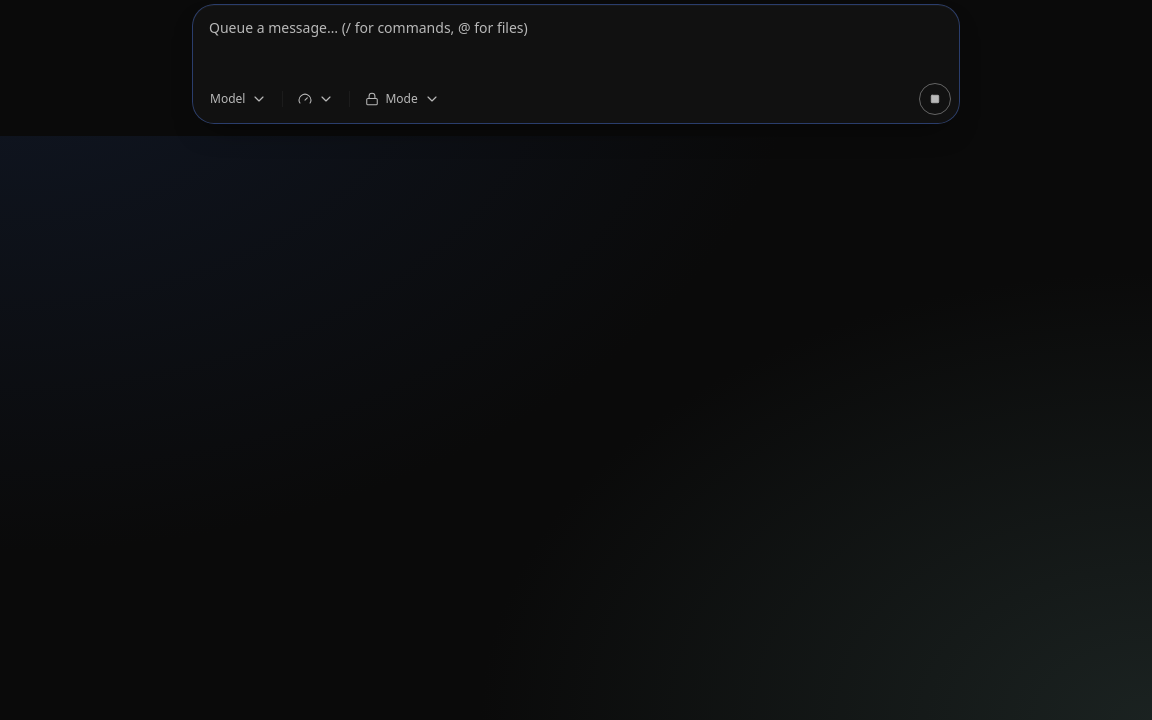
Test: Composer hint lifetime › keeps a replacement hint for its full duration, then expires it once
Type "first direction" into the dropdown labelled "message" at coordinates (576, 44), box 193,5 -> 959,83
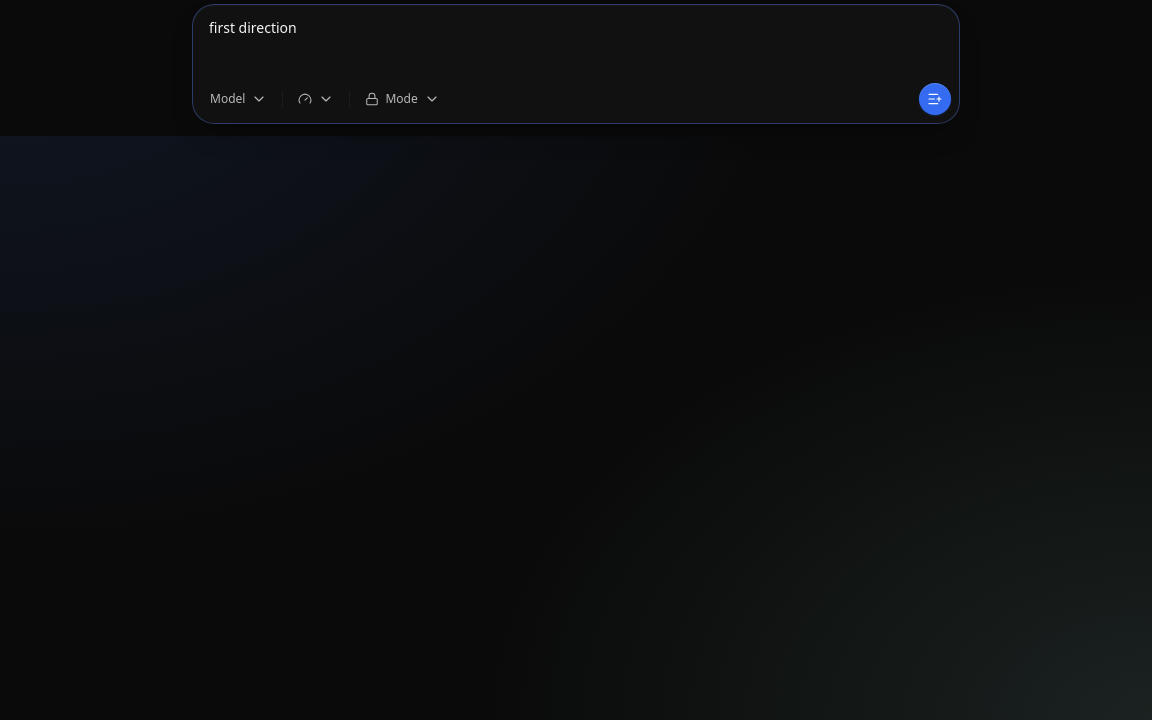
Click the button named "Queue" at coordinates (935, 99), box 919,83 -> 951,115
Wait 2000 ms
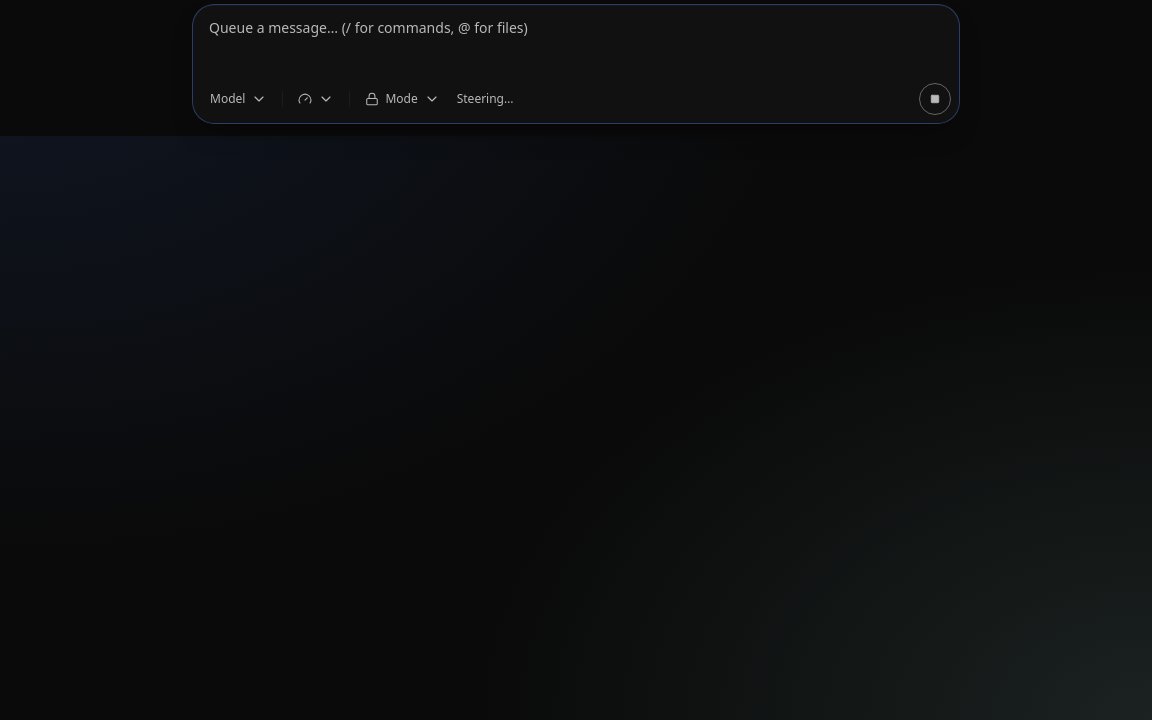
Expected: the text "Steering…" is shown, 457,90 -> 514,107
Type "second direction" into the dropdown labelled "message" at coordinates (576, 44), box 193,5 -> 959,83
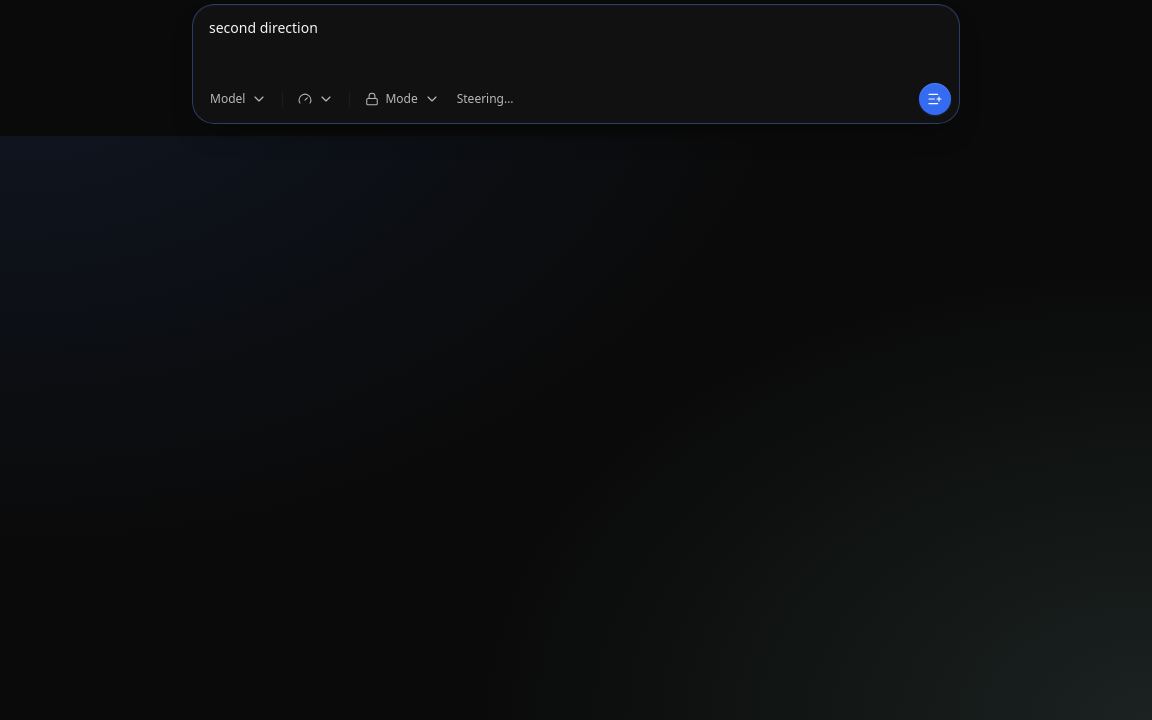
Click the button named "Queue" at coordinates (935, 99), box 919,83 -> 951,115
Wait 2500 ms
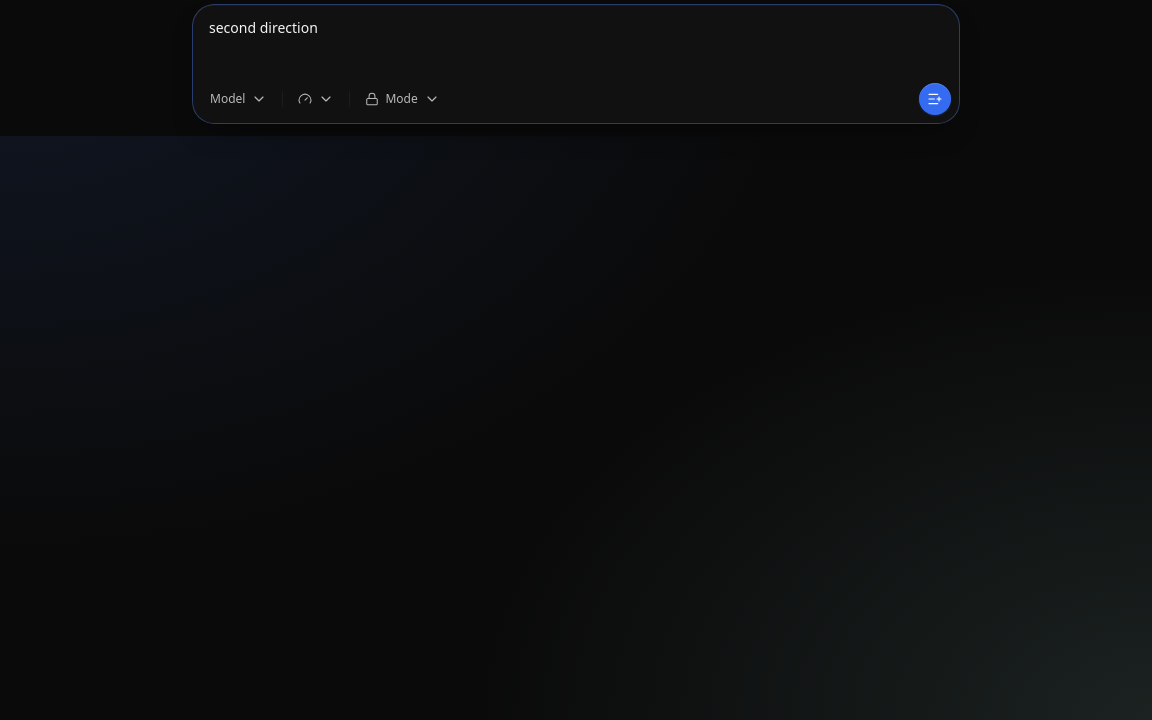
Expected: the text "Steering…" is gone
